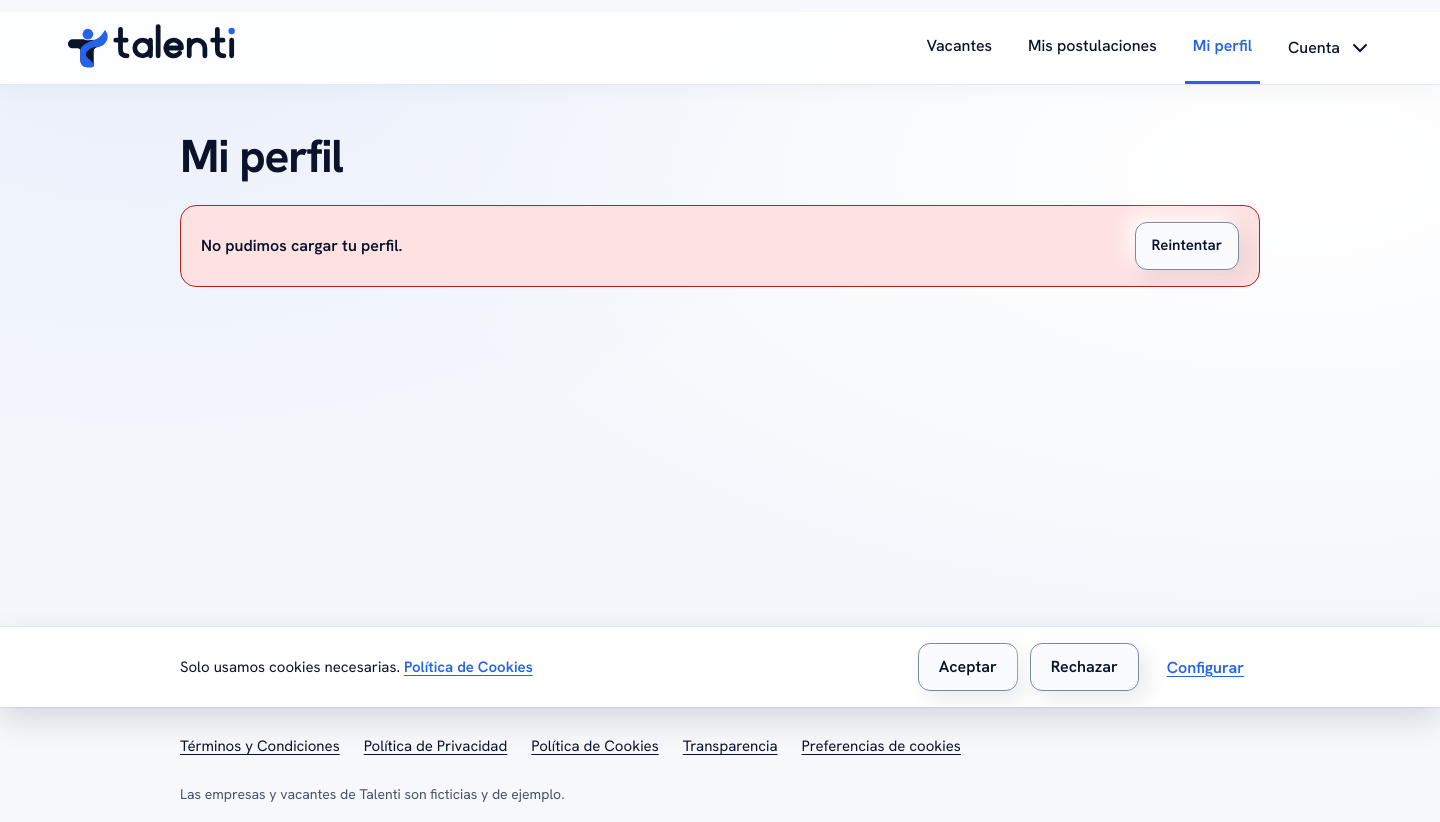
Test case: Page /perfil: states and progress (006-14, 006-20) › 006-20: a failed load shows an alert with "Reintentar" that asks again
Expected: the message shows "No pudimos cargar tu perfil.", [201,234,402,256]
Click the button "Reintentar" at (1187, 246), box [1134,222,1239,270]
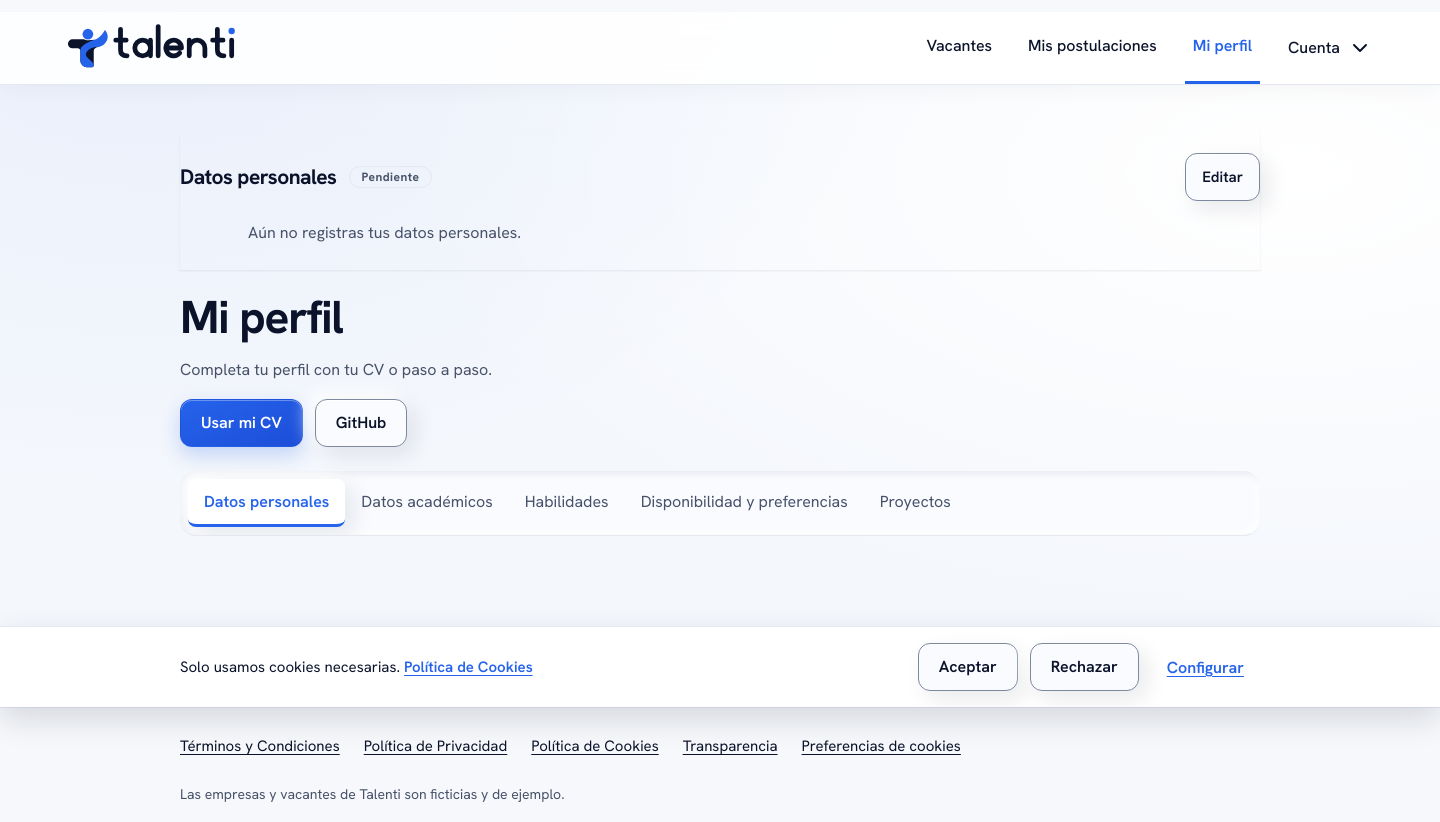
Now the element "Datos personales" is shown, box [180,133,1260,270]
Now the message "No pudimos cargar tu perfil. Reintentar" is gone
